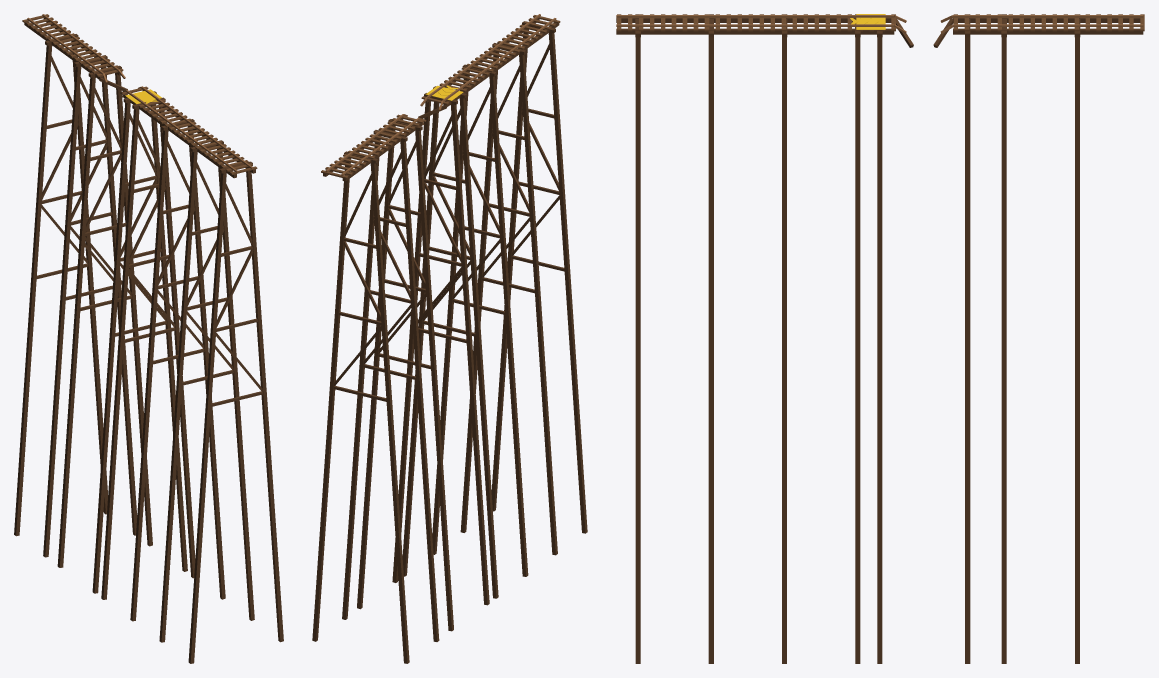
Rendered from MinecartMayhemRailGap.obj.
The picture shows the model from 3 angles, left to right: view 1: azimuth 30°, elevation 25°; view 2: azimuth 150°, elevation 25°; view 3: azimuth 270°, elevation 25°; orthographic projection. The views are drawn at different scales.
Visible parts, largest first — view 1: Trestle, Ties, Rails; view 2: Trestle, Ties, Rails; view 3: Trestle, Rails, Ties.
Part boxes in pixels (bbox=[...]): Trestle: bbox=[14, 18, 283, 663]; Ties: bbox=[22, 14, 257, 174]; Rails: bbox=[27, 14, 253, 172]; Trestle: bbox=[312, 18, 587, 663]; Ties: bbox=[321, 15, 560, 178]; Rails: bbox=[325, 14, 556, 175]; Trestle: bbox=[616, 14, 1143, 663]; Rails: bbox=[616, 15, 1143, 33]; Ties: bbox=[617, 14, 1144, 31].
Size of the model in its own units: 18.53 by 92.77 by 72.2.
